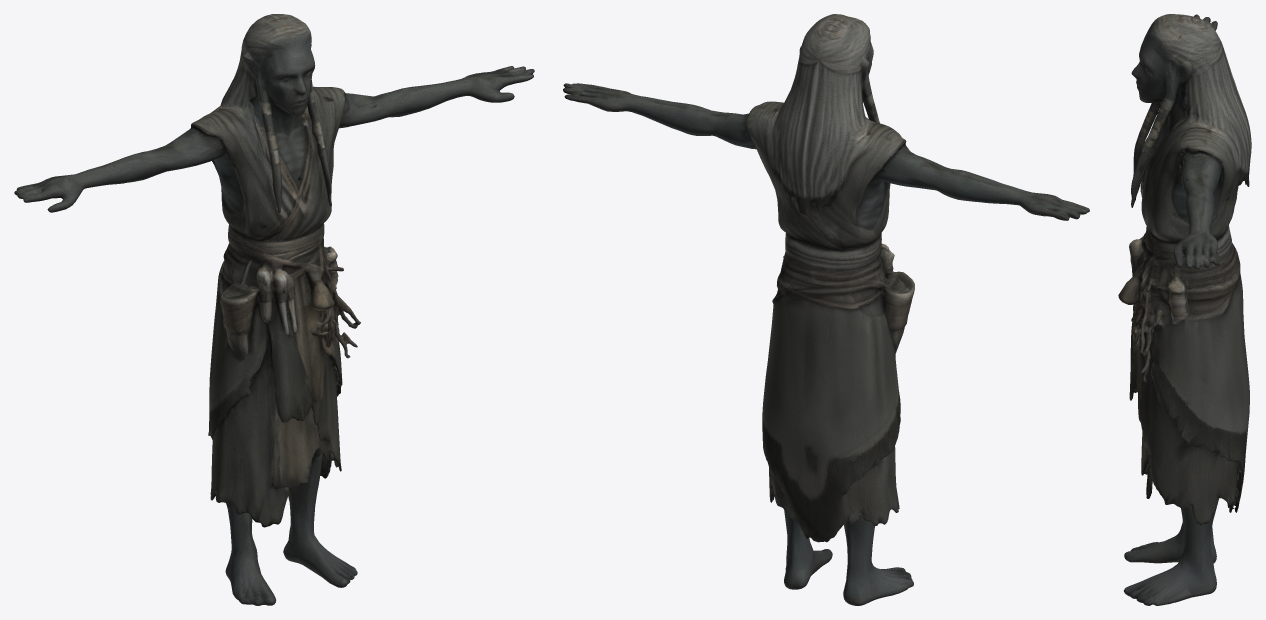
File: kaen.glb
3 views of the same model, side by side, from view 1: azimuth 30°, elevation 25°; view 2: azimuth 150°, elevation 25°; view 3: azimuth 270°, elevation 25° (orthographic).
Bounding box in the file's own units: 1.93 × 2 × 0.4312.
1 material, 1 textured.
